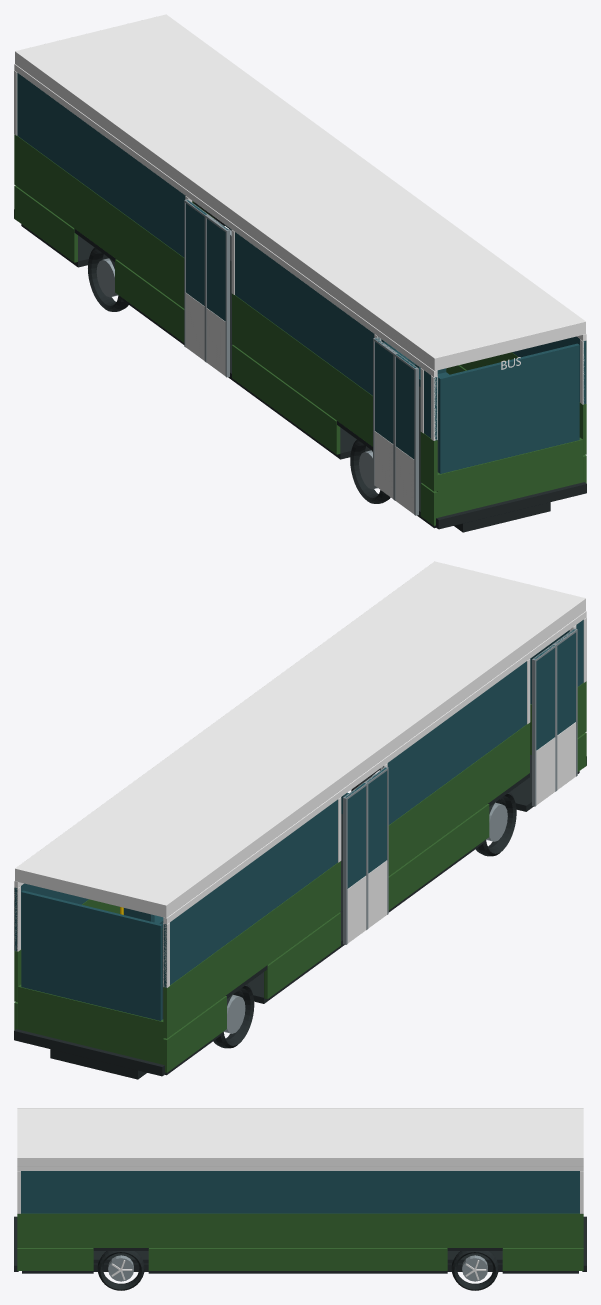
The model's file is singapore-public-bus.glb.
3 renders of one model, top to bottom at view 1: azimuth 30°, elevation 25°; view 2: azimuth 150°, elevation 25°; view 3: azimuth 270°, elevation 25°, orthographic. The views are drawn at different scales.
Visible parts, largest first — view 1: Roof, End_Window, Window_Band.002, Side_Wall.002, Window_Band.001, Side_Wall.001, End_Lower, Lower_Body.001, Top_Rail, Lower_Body.002, Lower_Body.003, Bumper.001 (+18 smaller); view 2: Roof, End_Window.001, Window_Band.002, Side_Wall.002, Window_Band.001, Side_Wall.001, End_Lower.001, Lower_Body.001, Top_Rail, Lower_Body.002, Lower_Body.003, Bumper (+15 smaller); view 3: Roof, Window_Band.003, Side_Wall.003, Lower_Body.005, Top_Rail.001, Lower_Body.006, Lower_Body.004, Side_Floor.004, Tyre_RR, Tyre_FR, Centre_Low_Floor, Hub_RR (+2 smaller).
Part boxes in pixels (x1,y1,x2,y2): Roof: (15,14,585,370); End_Window: (438,343,579,473); Window_Band.002: (17,73,185,257); Side_Wall.002: (14,134,184,308); Window_Band.001: (235,232,380,395); Side_Wall.001: (232,293,372,446); End_Lower: (436,437,582,517); Lower_Body.001: (232,345,340,454); Top_Rail: (14,64,437,377); Lower_Body.002: (115,259,184,342); Lower_Body.003: (14,185,77,262); Bumper.001: (435,482,586,529); Roof: (15,561,585,917); End_Window.001: (21,890,162,1020); Window_Band.002: (163,799,337,987); Side_Wall.002: (163,861,340,1038); Window_Band.001: (382,661,526,824); Side_Wall.001: (388,723,529,875); End_Lower.001: (18,984,164,1064); Lower_Body.001: (388,804,489,910); Top_Rail: (163,611,586,924); Lower_Body.002: (264,912,340,998); Lower_Body.003: (163,996,226,1072); Bumper: (14,1029,165,1076); Roof: (17,1108,583,1166); Window_Band.003: (21,1171,579,1213); Side_Wall.003: (17,1213,583,1247); Lower_Body.005: (148,1248,447,1270); Top_Rail.001: (17,1166,583,1170); Lower_Body.006: (502,1248,583,1270); Lower_Body.004: (17,1248,93,1270); Side_Floor.004: (148,1271,447,1273); Tyre_RR: (451,1251,498,1290); Tyre_FR: (97,1251,144,1290); Centre_Low_Floor: (93,1251,502,1263); Hub_RR: (462,1255,487,1281).
Bounding box in the file's own units: 2.6 × 3.2 × 12.14.
